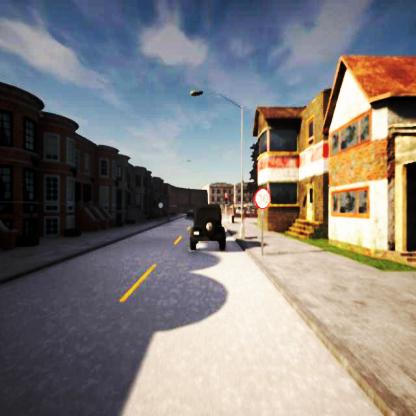vehicle: (189, 204, 225, 248)
